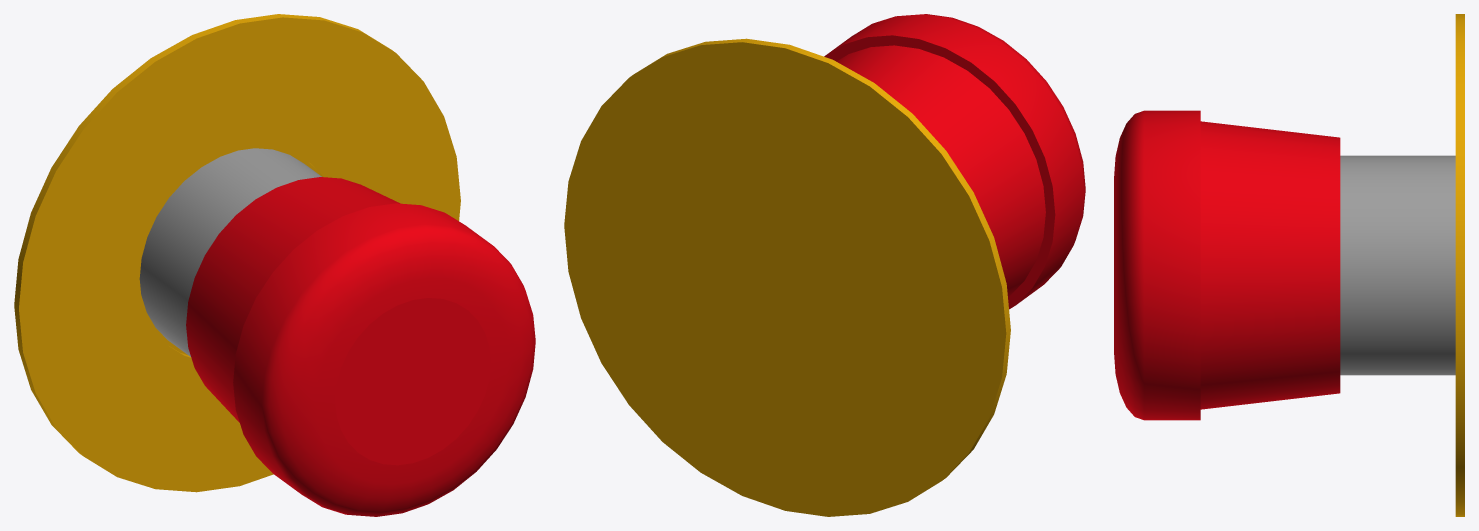
The model's file is PushButton.fbx.
The picture shows the model from 3 angles, left to right: view 1: azimuth 30°, elevation 25°; view 2: azimuth 150°, elevation 25°; view 3: azimuth 270°, elevation 25°; orthographic projection.
Parts seen in each view (by area): view 1: Cylinder.003, Cylinder.007; view 2: Cylinder.003, Cylinder.007; view 3: Cylinder.007, Cylinder.003.
Part boxes in pixels (<box>): Cylinder.003: <box>14,14,460,492</box>; Cylinder.007: <box>186,177,535,516</box>; Cylinder.003: <box>564,38,1010,516</box>; Cylinder.007: <box>824,14,1085,309</box>; Cylinder.007: <box>1114,110,1340,420</box>; Cylinder.003: <box>1340,14,1464,516</box>.
Size of the model in its own units: 2.75 by 2.75 by 1.91.
